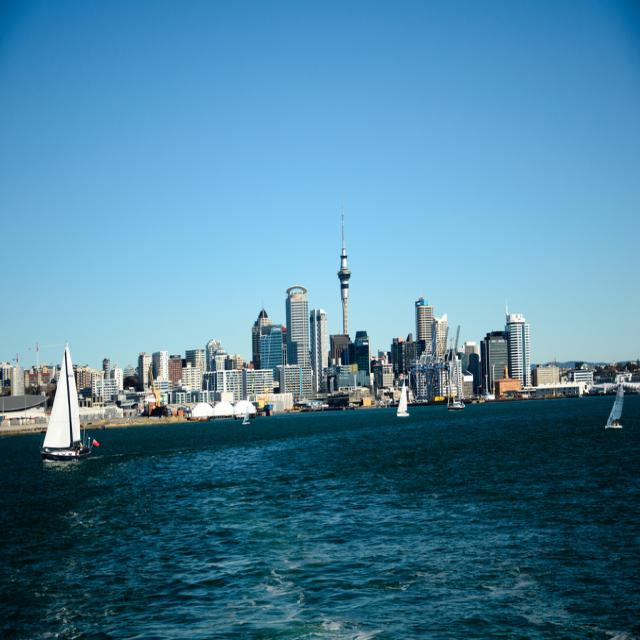Boat: (36, 357, 90, 472), (604, 381, 623, 428), (396, 378, 411, 416)
